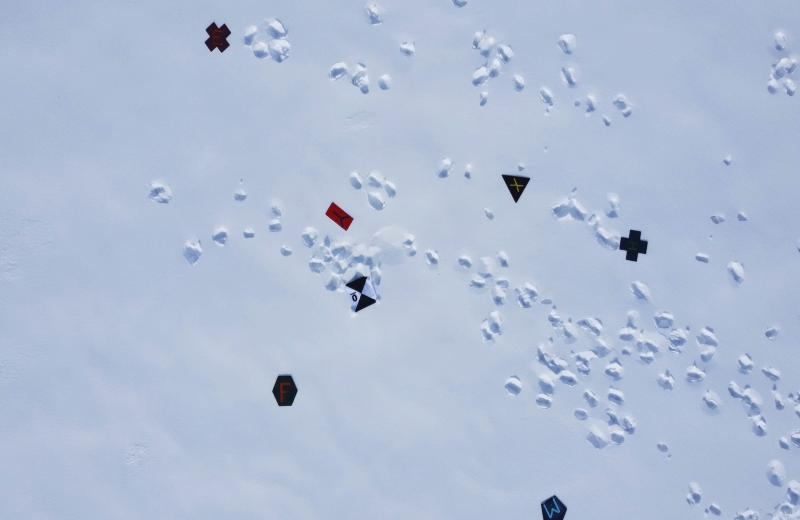Cross: (615, 226, 652, 266), (201, 21, 236, 56)
Hexagon: (268, 372, 302, 410)
Pentagon: (538, 492, 569, 520)
Rectangle: (322, 199, 356, 234)
Triangle: (498, 170, 533, 205)
